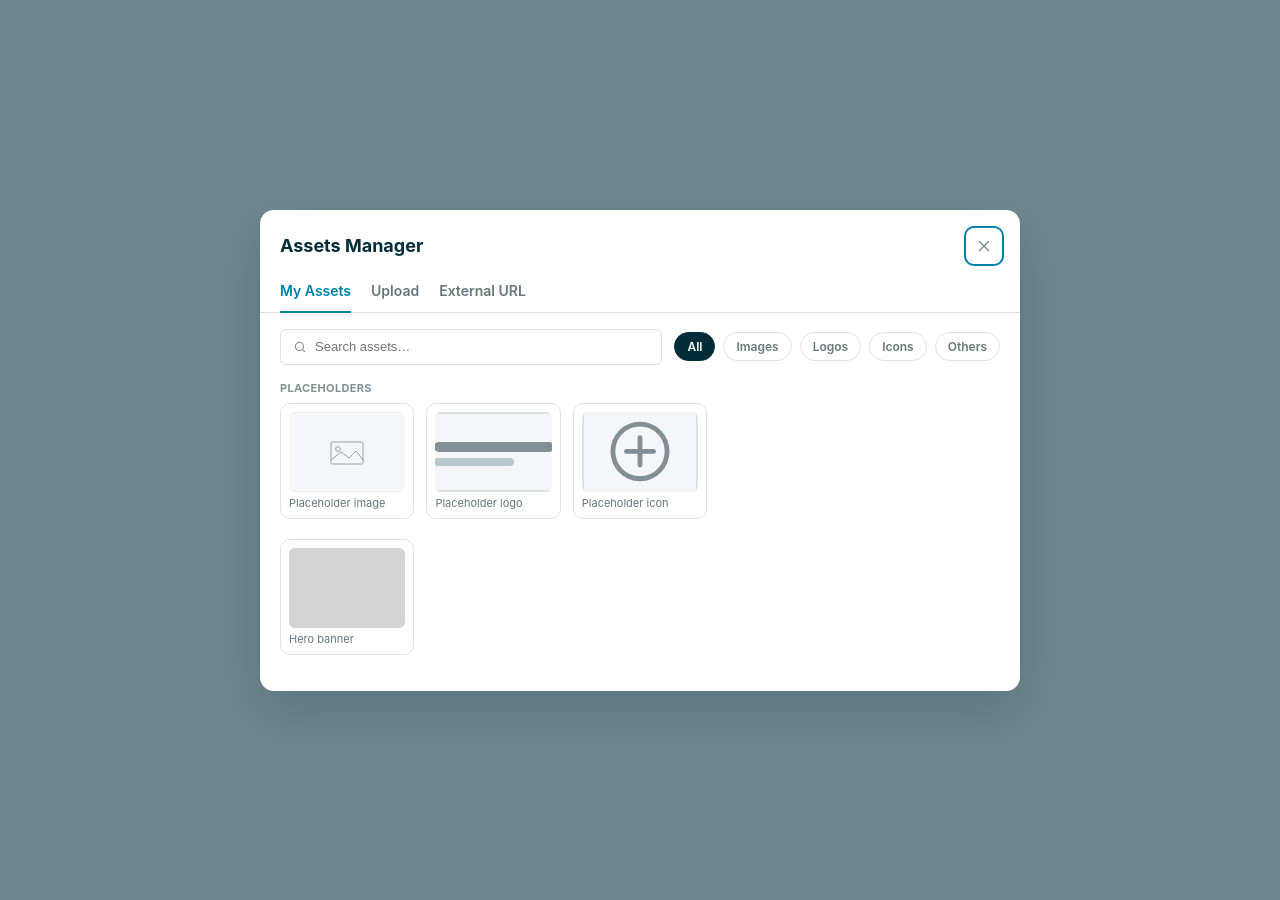
AssetManagerDialog — browse › clicking a card shows the Selected Asset detail panel with dimensions and size
Click the button "Hero banner": (347, 596) [280,538,414,654]
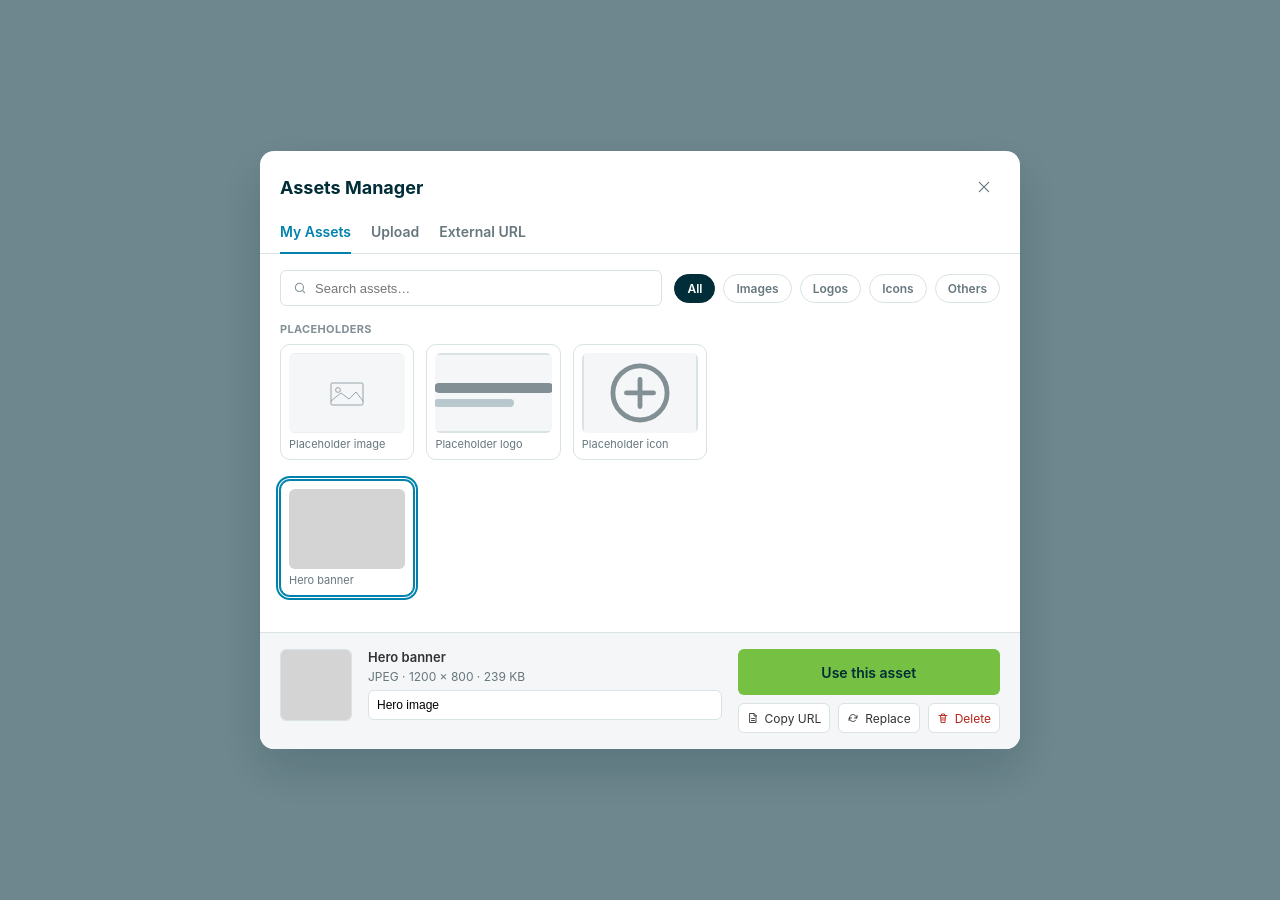
Expected: the text "JPEG · 1200 × 800 · 239 KB" is shown, [368,669,525,684]
Expected: the button "Use this asset" is shown, [738,649,1000,695]
